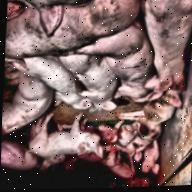boar: (0, 0, 192, 185)
